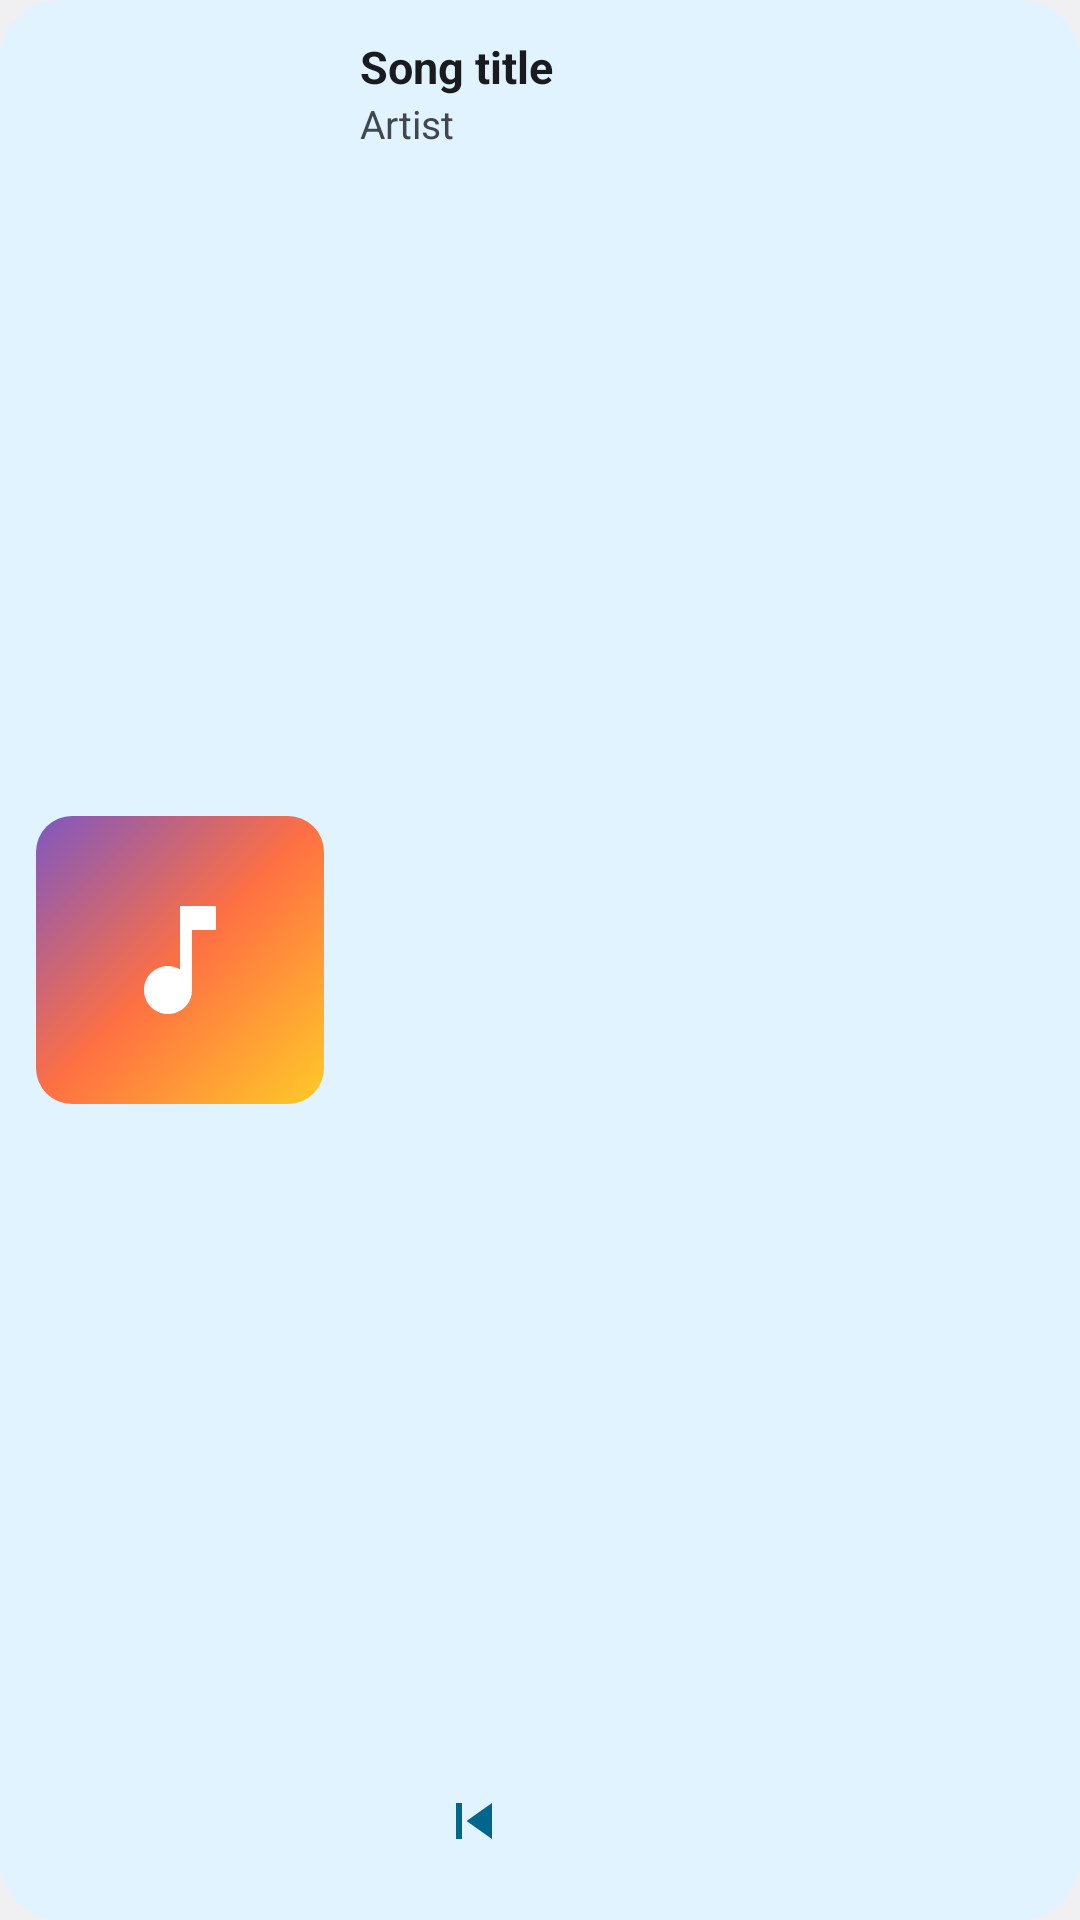

Icon bounding boxes for this 1080px x 1920px phone screenshot, format (x1, y1, x2, y2):
Previous track: (456, 1803, 492, 1839)
